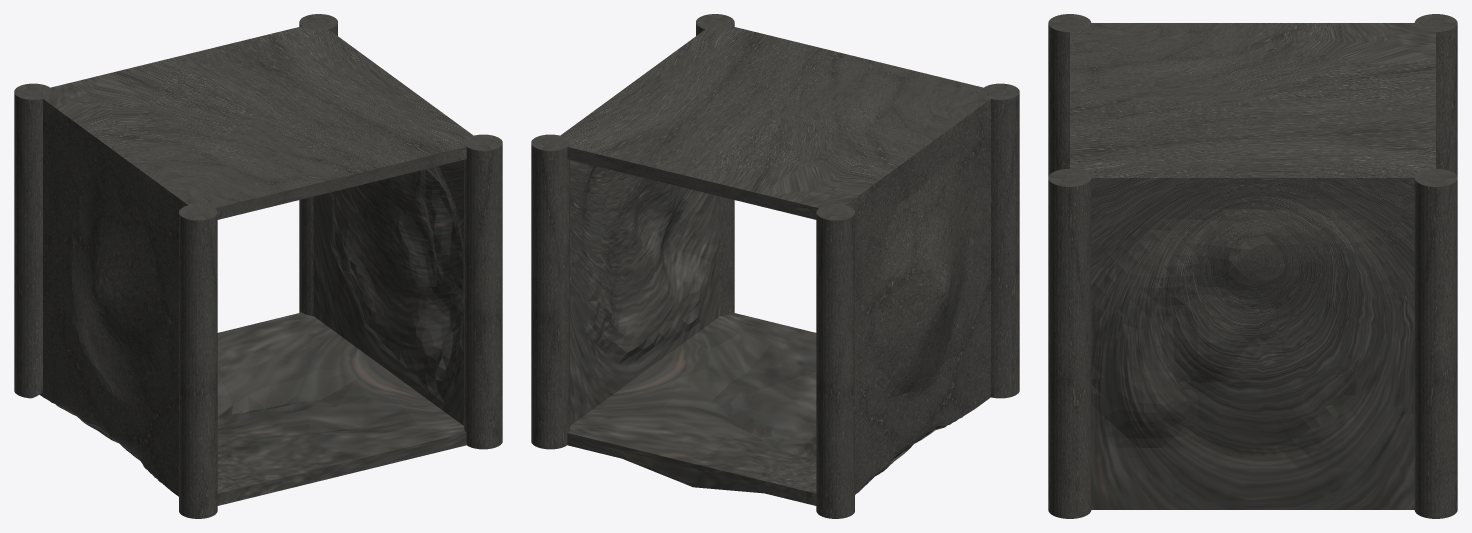
Rendered from tunnel_type1.fbx.
3 renders of one model, left to right at view 1: azimuth 30°, elevation 25°; view 2: azimuth 150°, elevation 25°; view 3: azimuth 270°, elevation 25°, orthographic. The views are drawn at different scales.
Parts seen in each view (by area): view 1: obelisk; view 2: obelisk; view 3: obelisk.
Part boxes in pixels (<box>): obelisk: <box>14,14,502,518</box>; obelisk: <box>531,14,1019,518</box>; obelisk: <box>1048,14,1457,518</box>.
Size of the model in its own units: 1945 by 1766 by 1900.
